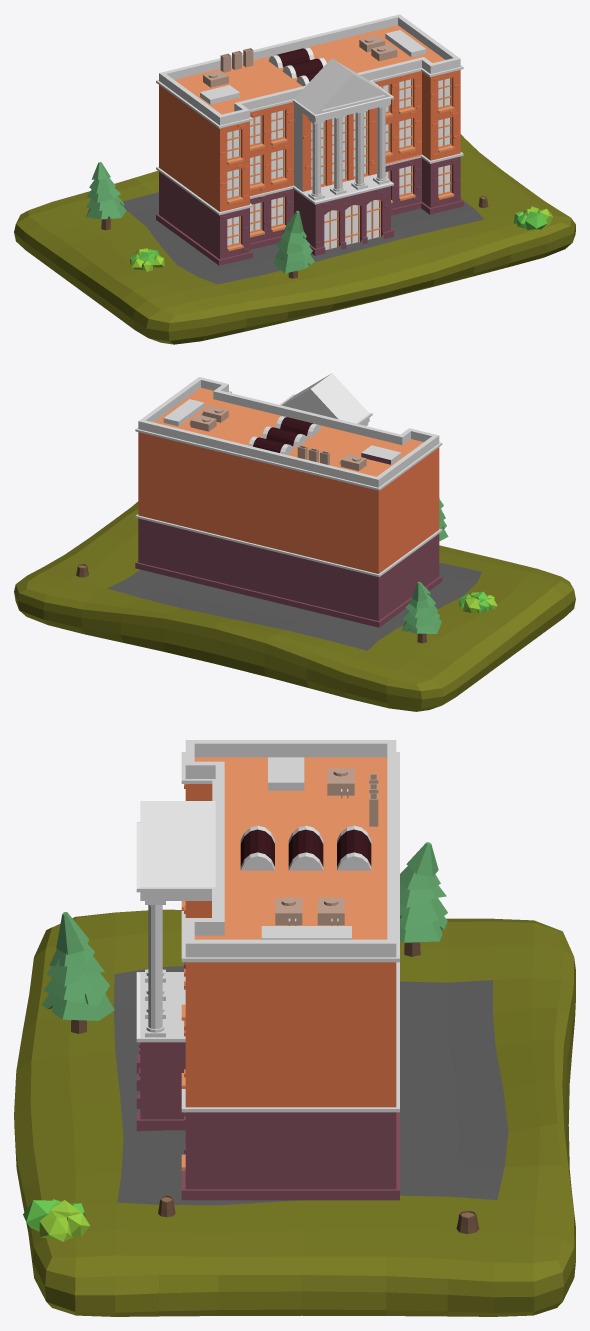
Rendered from campus.glb.
3 views of the same model, one above another, from view 1: azimuth 30°, elevation 25°; view 2: azimuth 150°, elevation 25°; view 3: azimuth 270°, elevation 25° (orthographic). The views are drawn at different scales.
Visible parts, largest first — view 1: School, Ground.002, Spruce 5, Spruce 4, Bush 2.001, Bush 3.001; view 2: School, Ground.002, Spruce 4, Bush 3.001; view 3: Ground.002, School, Spruce 5, Spruce 4, Bush 2.001.
Part boxes in pixels (<box>): School: <box>156,14,463,265</box>; Ground.002: <box>14,134,575,344</box>; Spruce 5: <box>273,211,314,278</box>; Spruce 4: <box>86,162,126,230</box>; Bush 2.001: <box>513,206,552,230</box>; Bush 3.001: <box>129,248,164,271</box>; School: <box>135,373,442,627</box>; Ground.002: <box>14,501,575,711</box>; Spruce 4: <box>401,581,441,643</box>; Bush 3.001: <box>459,591,497,612</box>; Ground.002: <box>14,909,575,1316</box>; School: <box>136,740,399,1200</box>; Spruce 5: <box>42,912,114,1033</box>; Spruce 4: <box>400,842,447,956</box>; Bush 2.001: <box>23,1199,90,1241</box>.
Size of the model in its own units: 17.28 by 7.91 by 11.2.
